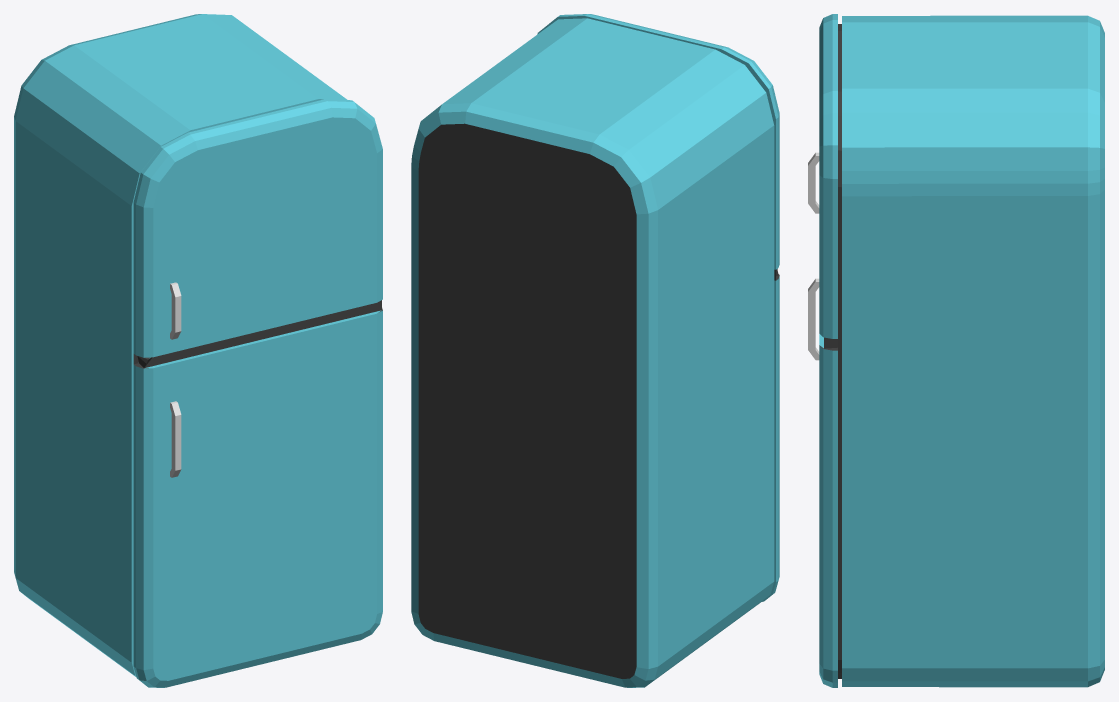
The model's file is refrigeratorlowpolyfree.glb.
3 views of the same model, side by side, from view 1: azimuth 30°, elevation 25°; view 2: azimuth 150°, elevation 25°; view 3: azimuth 270°, elevation 25° (orthographic). The views are drawn at different scales.
Visible parts, largest first — view 1: Cube.001; view 2: Cube.001; view 3: Cube.001.
Part boxes in pixels (bbox=[...]): Cube.001: bbox=[14, 14, 382, 687]; Cube.001: bbox=[411, 14, 779, 687]; Cube.001: bbox=[808, 14, 1104, 687].
Bounding box in the file's own units: 0.8 × 1.7 × 0.79.
